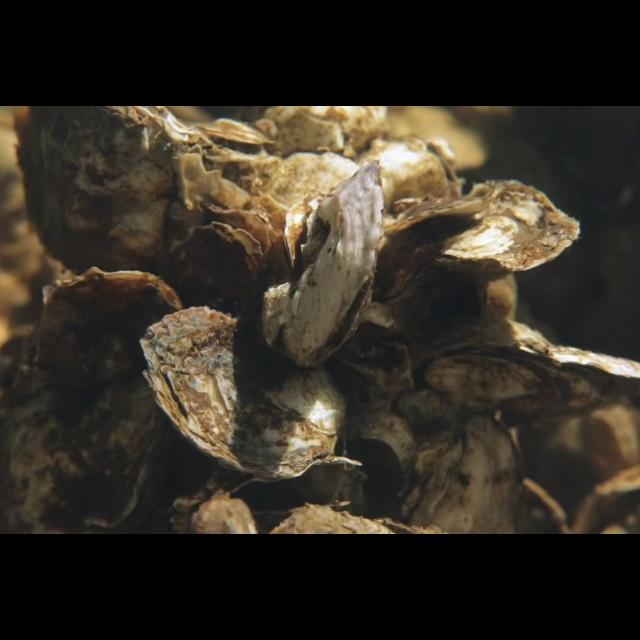Oyster-Closed: (5, 265, 186, 535), (18, 106, 224, 288), (138, 305, 350, 481), (260, 156, 384, 370), (374, 180, 582, 306), (390, 414, 526, 534), (167, 220, 266, 324)
Oyster-Open: (408, 317, 640, 431), (226, 457, 364, 533)
